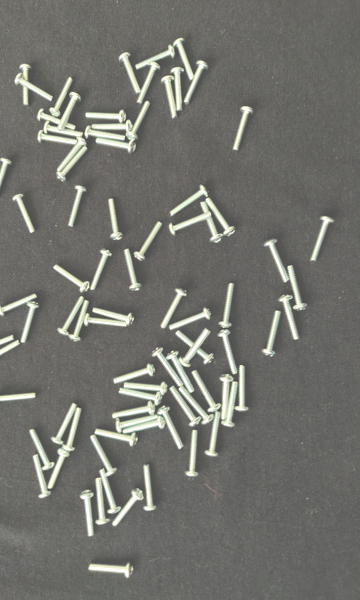longscrew: (174, 329, 216, 366), (167, 385, 201, 428), (167, 184, 211, 217), (88, 434, 120, 479), (191, 369, 223, 414), (178, 386, 214, 426), (150, 346, 183, 389), (111, 488, 145, 529), (165, 349, 195, 394), (156, 404, 184, 451), (183, 60, 211, 107), (204, 196, 236, 237), (27, 426, 55, 472), (179, 328, 211, 368), (285, 263, 310, 314), (13, 73, 55, 103), (309, 216, 335, 264), (159, 287, 188, 330), (263, 238, 290, 284), (57, 295, 85, 339), (134, 221, 163, 263), (57, 145, 89, 183), (51, 402, 78, 447), (231, 105, 256, 153), (56, 136, 87, 174), (278, 293, 302, 342), (199, 199, 225, 244), (137, 61, 163, 106), (168, 307, 214, 332), (135, 43, 176, 71), (168, 211, 212, 237), (126, 100, 152, 144), (52, 263, 90, 293), (11, 193, 38, 235), (98, 467, 121, 515), (217, 328, 240, 376), (88, 248, 113, 292), (48, 75, 74, 117), (30, 453, 53, 499), (46, 448, 70, 492), (93, 427, 141, 449), (118, 51, 142, 95), (112, 362, 157, 385), (90, 305, 137, 327), (262, 309, 283, 358), (0, 292, 39, 318), (173, 38, 196, 82), (57, 92, 82, 132), (122, 248, 144, 293), (78, 488, 98, 537), (87, 560, 136, 580), (19, 301, 41, 345), (62, 407, 83, 453), (118, 386, 163, 407), (115, 413, 160, 434), (121, 415, 166, 436), (37, 108, 78, 131), (69, 299, 90, 343), (94, 476, 112, 527), (142, 463, 160, 513), (111, 401, 156, 421), (204, 411, 222, 460), (219, 281, 237, 330), (68, 184, 88, 228), (106, 197, 125, 242), (160, 75, 179, 120), (221, 380, 238, 429), (83, 312, 129, 330), (18, 62, 36, 107), (83, 125, 128, 143), (185, 429, 201, 479), (235, 364, 251, 414), (94, 137, 138, 155), (218, 373, 234, 422), (122, 380, 170, 396), (170, 66, 186, 112), (36, 129, 79, 146), (43, 121, 83, 139), (0, 390, 38, 408), (91, 119, 133, 135), (84, 109, 128, 124), (0, 340, 22, 369), (0, 157, 14, 200), (0, 334, 16, 359)
